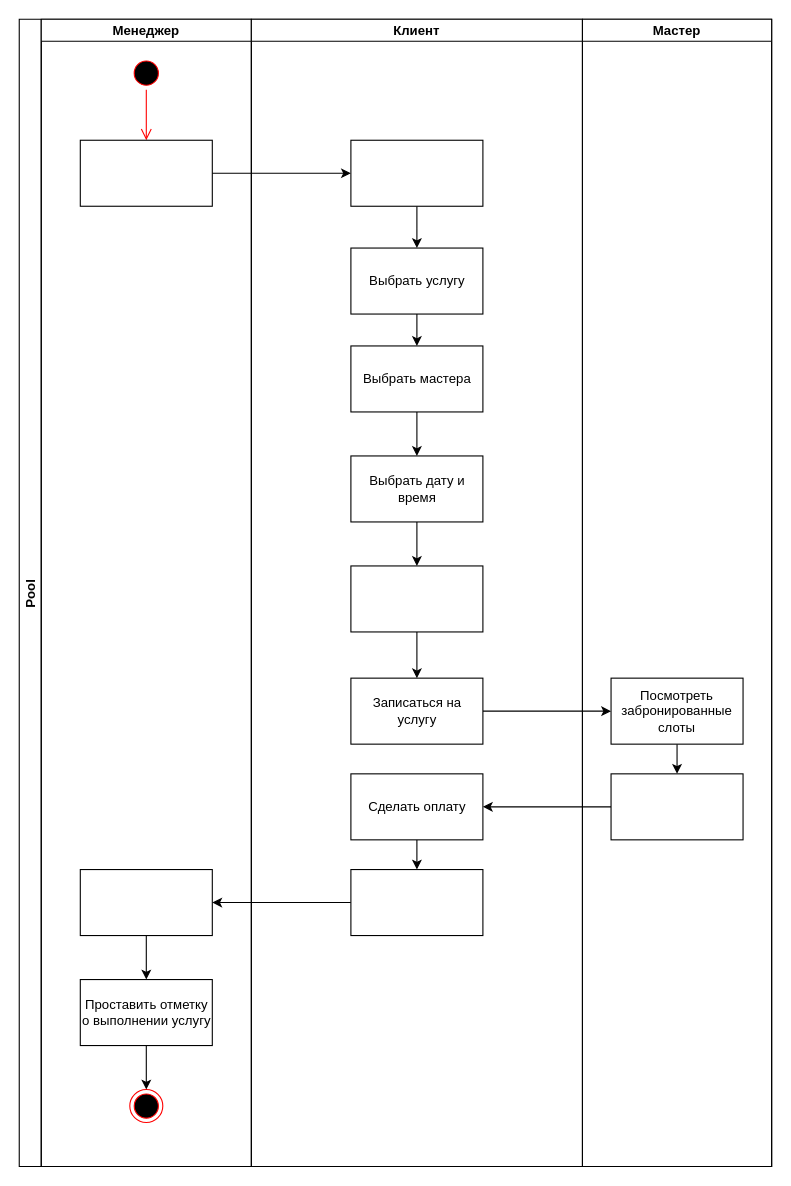
The diagram is 791 pixels wide and 1186 high, and some of its shapes have lost their labels. Each missing label, with the centre of its shape:
Выбрать удобный способ связи: (416,598)
Оказать услугу: (676,806)
Оставить отзыв: (416,902)
Посетить сайт: (416,172)
Принять оплату: (145,902)
Составить расписание мастеров: (145,172)
